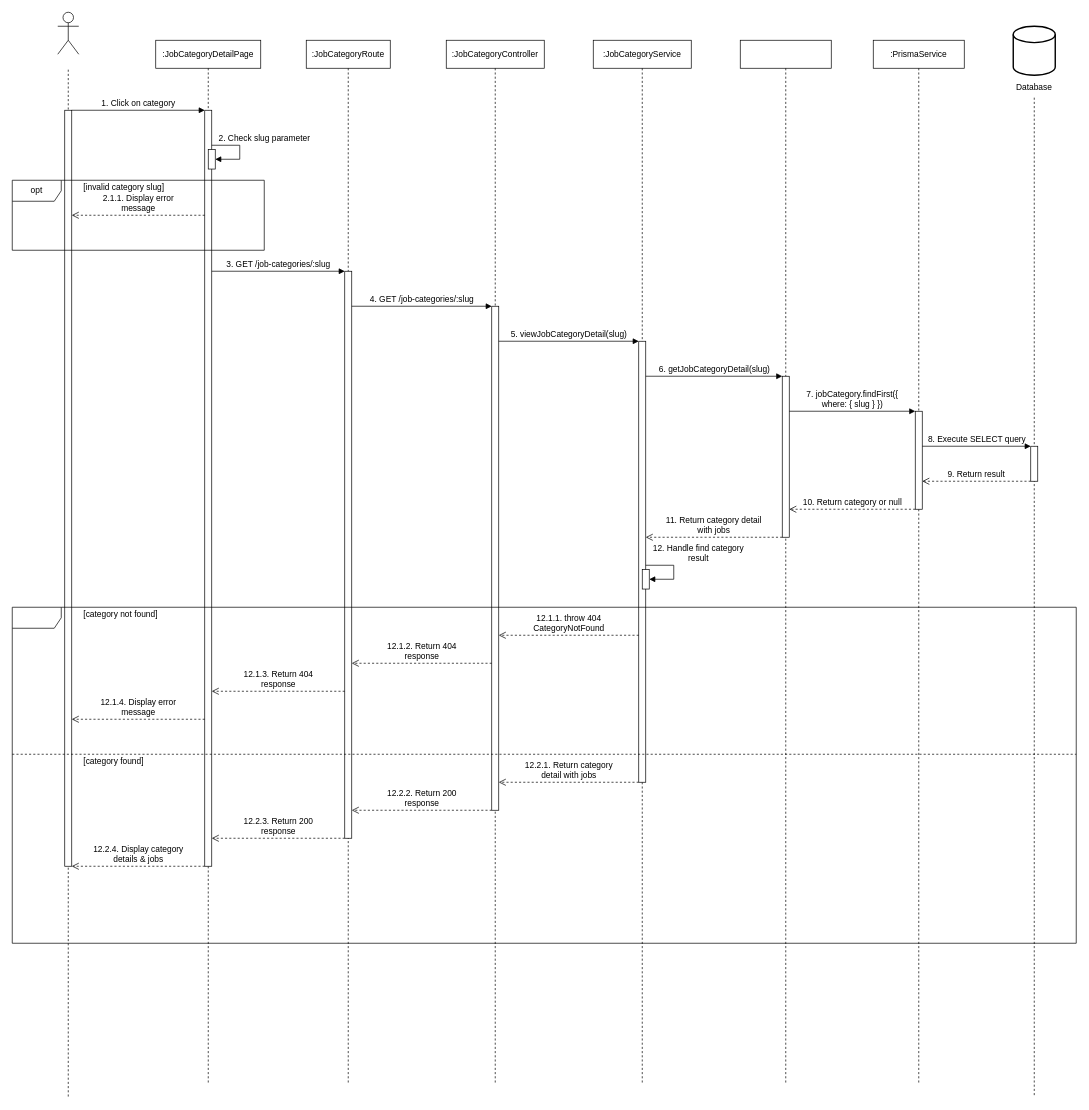
The diagram is 1089 pixels wide and 1110 high, and some of its shapes have lost their labels. Each missing label, with the centre of its shape:
":JobCategoryRepo" belongs at pixel 785 561.
"alt" belongs at pixel 544 775.
"Freelancer" belongs at pixel 68 33.
